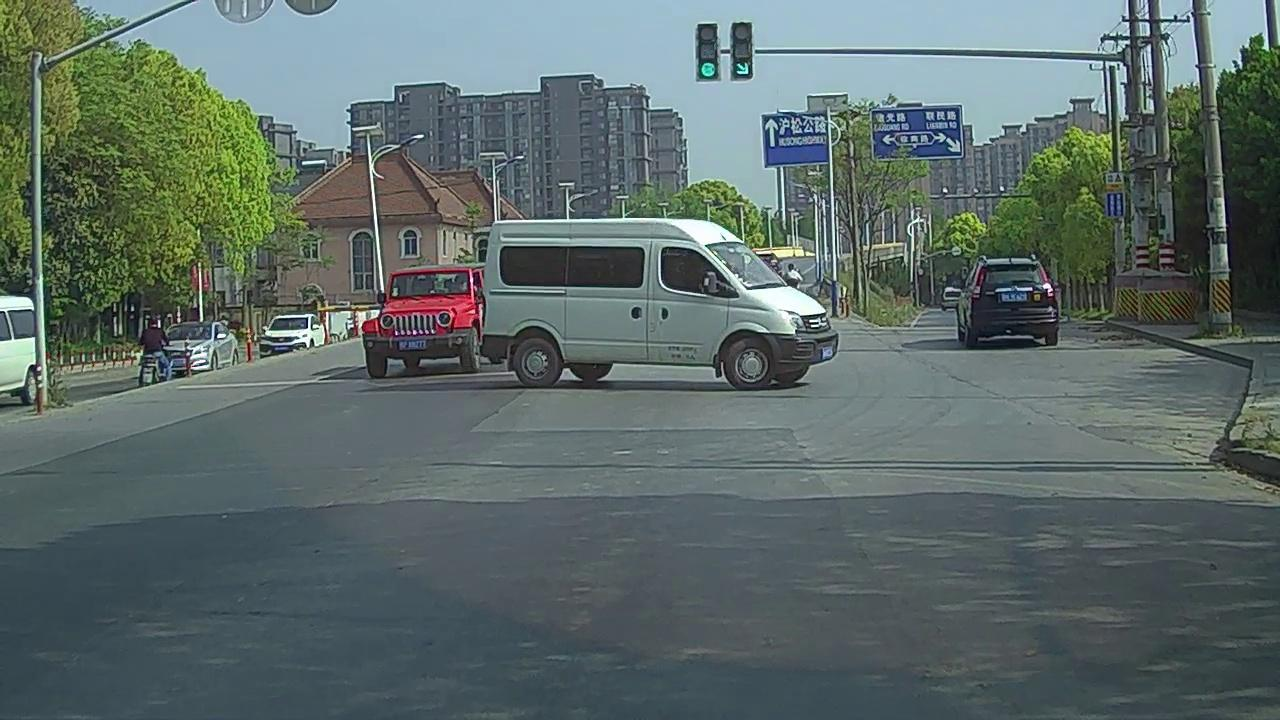traffic_light: (696, 25, 719, 81), (733, 23, 753, 79)
